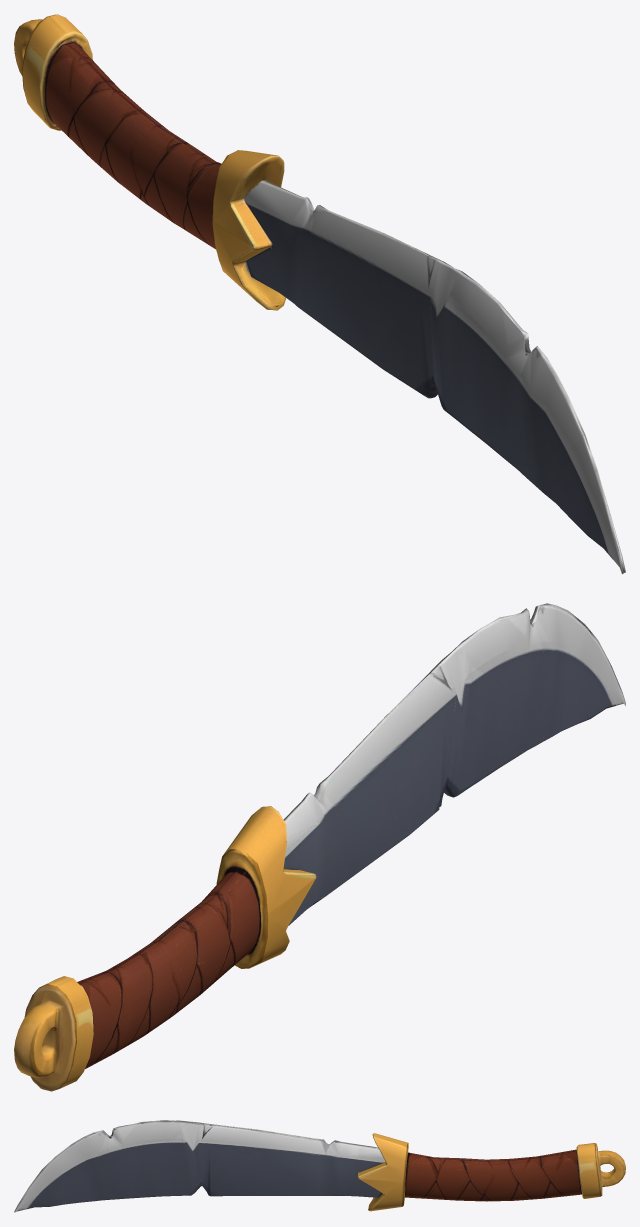
File: Machete.fbx
3 renders of one model, top to bottom at view 1: azimuth 30°, elevation 25°; view 2: azimuth 150°, elevation 25°; view 3: azimuth 270°, elevation 25°, orthographic. The views are drawn at different scales.
Visible parts, largest first — view 1: Machete; view 2: Machete; view 3: Machete.
Boxes of the visible parts, x1=… form: Machete: x1=14, y1=14, x2=625, y2=574; Machete: x1=14, y1=603, x2=625, y2=1091; Machete: x1=14, y1=1120, x2=625, y2=1212.
Size of the model in its own units: 0.0464 by 0.1342 by 0.8.
1 material, 1 textured.
